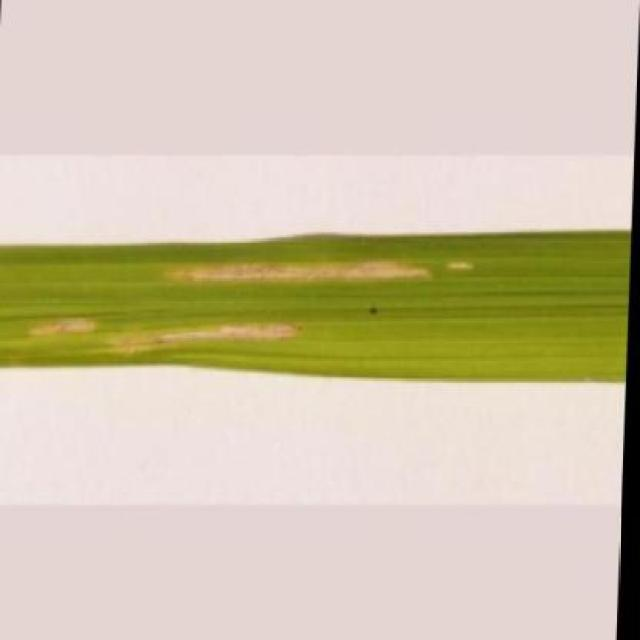Brown_Spot: (0, 229, 632, 386)
